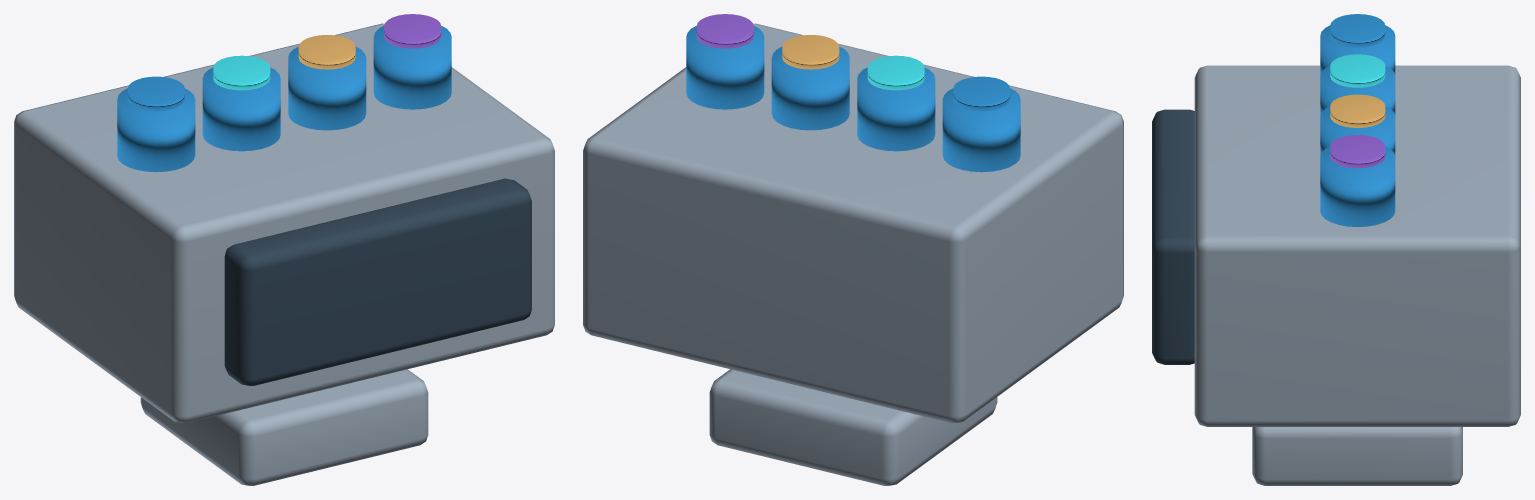
Rendered from multispectral_imager.glb.
3 renders of one model, left to right at view 1: azimuth 30°, elevation 25°; view 2: azimuth 150°, elevation 25°; view 3: azimuth 270°, elevation 25°, orthographic. The views are drawn at different scales.
Parts seen in each view (by area): view 1: Multispectral_Housing, Sensor_Radiator, Mounting_Flange, Spectral_Lens_002, Spectral_Lens_001, Spectral_Lens_003, Spectral_Lens, Spectral_Filter, Spectral_Filter_003, Spectral_Filter_001, Spectral_Filter_002; view 2: Multispectral_Housing, Mounting_Flange, Spectral_Lens_002, Spectral_Lens_001, Spectral_Lens_003, Spectral_Lens, Spectral_Filter, Spectral_Filter_003, Spectral_Filter_001, Spectral_Filter_002; view 3: Multispectral_Housing, Mounting_Flange, Sensor_Radiator, Spectral_Lens_003, Spectral_Filter_001, Spectral_Filter, Spectral_Filter_002, Spectral_Filter_003, Spectral_Lens_001, Spectral_Lens, Spectral_Lens_002.
Part boxes in pixels (x1,y1,x2,y2): Multispectral_Housing: (14, 23, 554, 422); Sensor_Radiator: (224, 178, 531, 385); Mounting_Flange: (140, 369, 428, 485); Spectral_Lens_002: (288, 46, 366, 130); Spectral_Lens_001: (202, 67, 280, 151); Spectral_Lens_003: (373, 26, 451, 109); Spectral_Lens: (117, 88, 195, 172); Spectral_Filter: (127, 76, 184, 111); Spectral_Filter_003: (384, 14, 441, 48); Spectral_Filter_001: (213, 55, 270, 90); Spectral_Filter_002: (298, 35, 355, 69); Multispectral_Housing: (583, 23, 1123, 423); Mounting_Flange: (709, 369, 997, 485); Spectral_Lens_002: (771, 46, 849, 130); Spectral_Lens_001: (857, 67, 935, 151); Spectral_Lens_003: (686, 26, 764, 109); Spectral_Lens: (942, 88, 1020, 172); Spectral_Filter: (953, 76, 1010, 111); Spectral_Filter_003: (696, 14, 753, 48); Spectral_Filter_001: (867, 55, 924, 90); Spectral_Filter_002: (782, 35, 839, 69); Multispectral_Housing: (1194, 65, 1520, 426); Mounting_Flange: (1252, 427, 1462, 485); Sensor_Radiator: (1152, 109, 1194, 364); Spectral_Lens_003: (1320, 146, 1395, 226); Spectral_Filter_001: (1330, 54, 1385, 87); Spectral_Filter: (1330, 14, 1385, 47); Spectral_Filter_002: (1330, 94, 1385, 127); Spectral_Filter_003: (1330, 135, 1385, 168); Spectral_Lens_001: (1320, 65, 1395, 115); Spectral_Lens: (1320, 25, 1395, 74); Spectral_Lens_002: (1320, 106, 1395, 155).
Bounding box in the file's own units: 0.85 × 0.7925 × 0.735.
